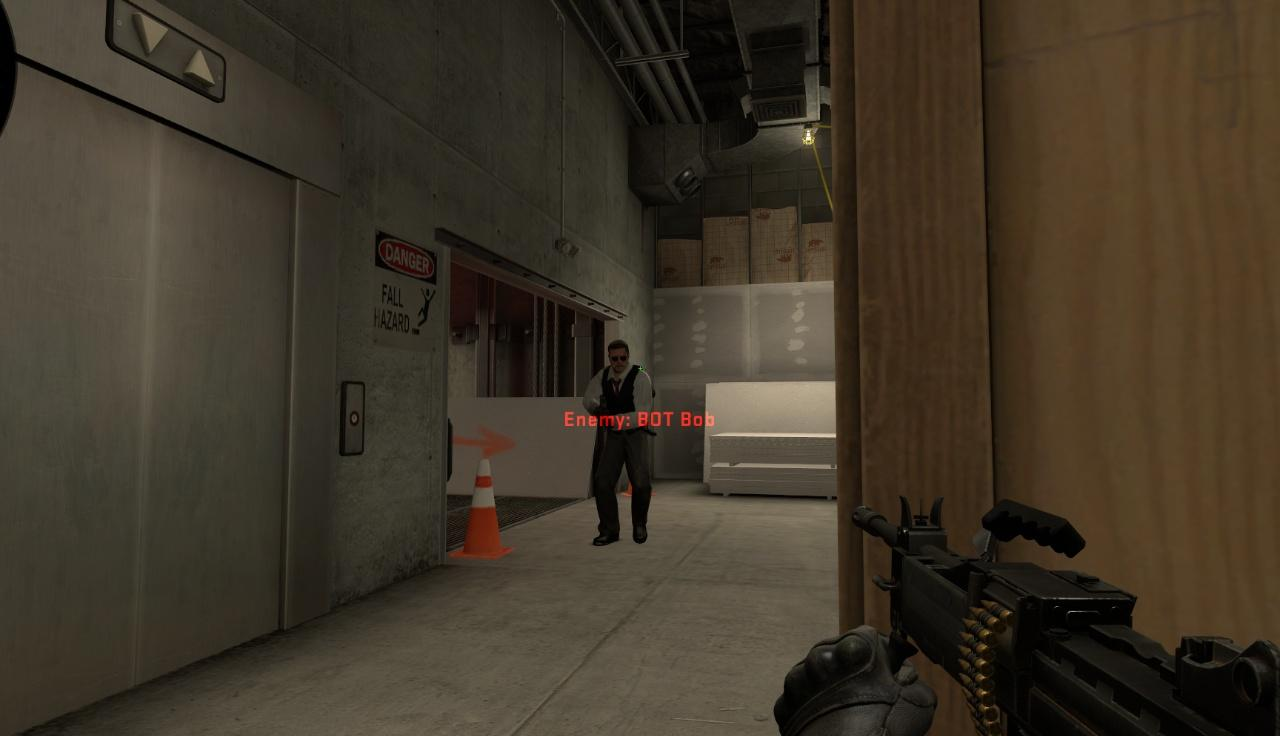rifle: (849, 493, 1280, 736)
tt: (583, 340, 656, 547)
tthead: (607, 341, 631, 371)
